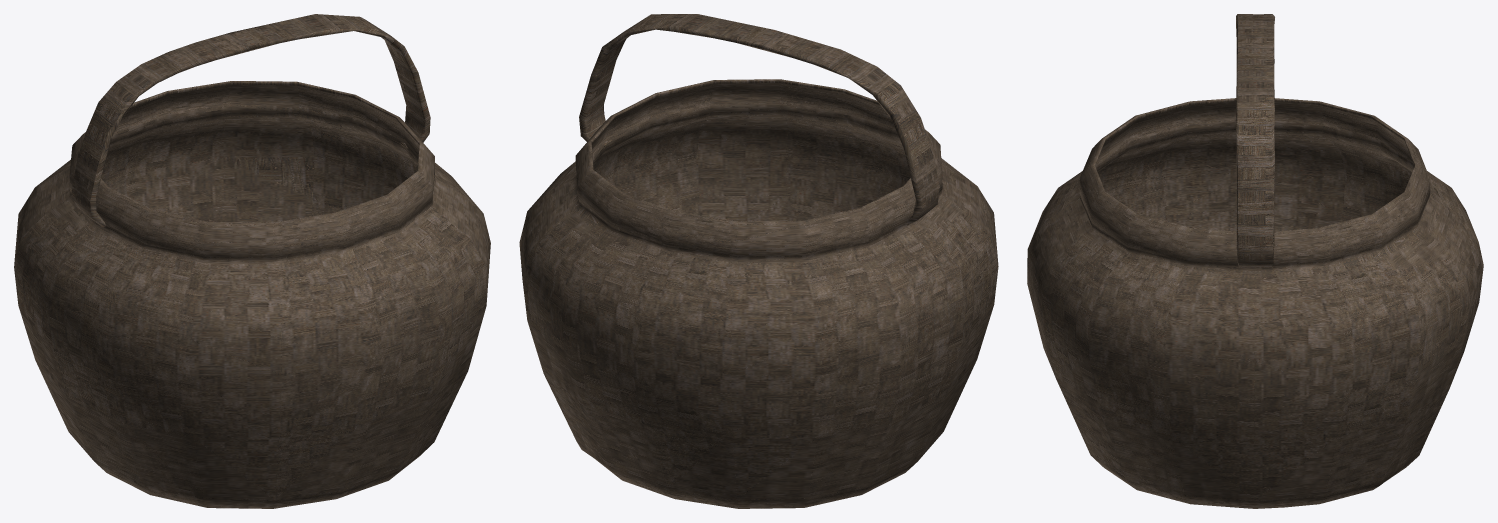
Rendered from SM_basket01.fbx.
The picture shows the model from 3 angles, left to right: view 1: azimuth 30°, elevation 25°; view 2: azimuth 150°, elevation 25°; view 3: azimuth 270°, elevation 25°; orthographic projection. The views are drawn at different scales.
Parts seen in each view (by area): view 1: SM_basket01_LOD0; view 2: SM_basket01_LOD0; view 3: SM_basket01_LOD0.
Boxes of the visible parts, left/top/right/bottom form: SM_basket01_LOD0: left=14, top=14, right=490, bottom=508; SM_basket01_LOD0: left=519, top=14, right=998, bottom=508; SM_basket01_LOD0: left=1027, top=14, right=1483, bottom=508.
Bounding box in the file's own units: 60.06 × 59.87 × 57.64.
